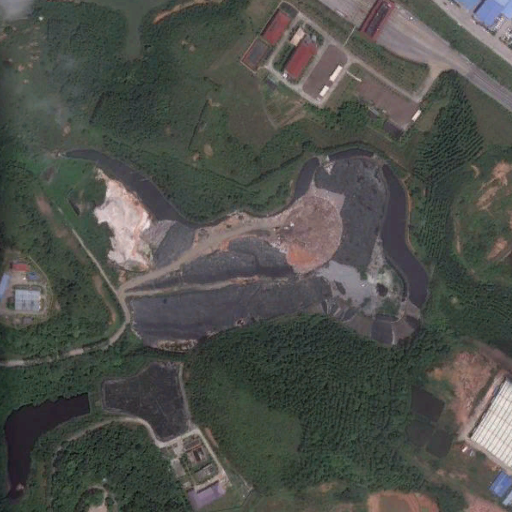lf: (60, 150, 433, 349)
